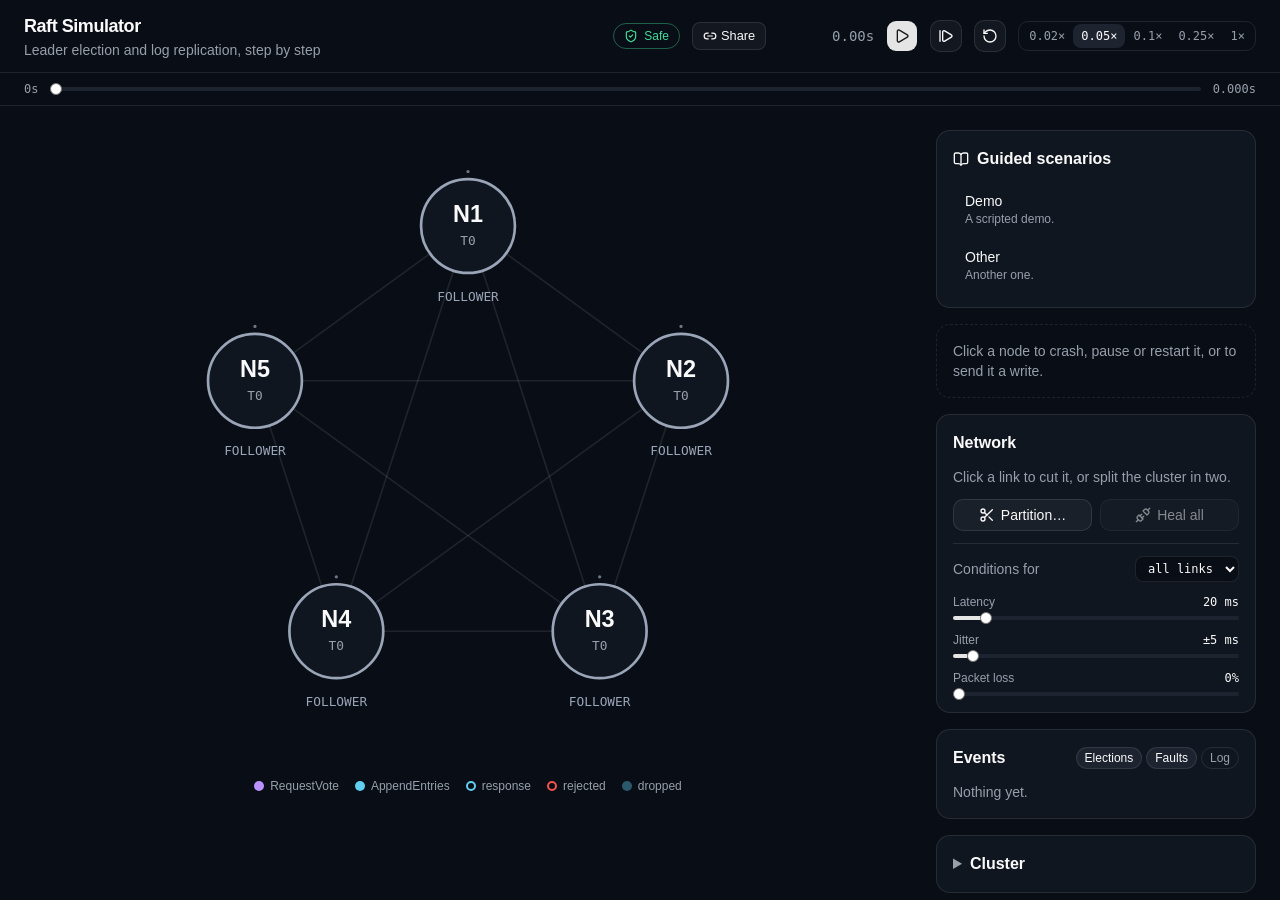
it: step buttons jump between narrated steps
The image size is (1280, 900).
Click the button "Demo A scripted demo.": click(984, 201) top-left (953, 183), bottom-right (1239, 235)
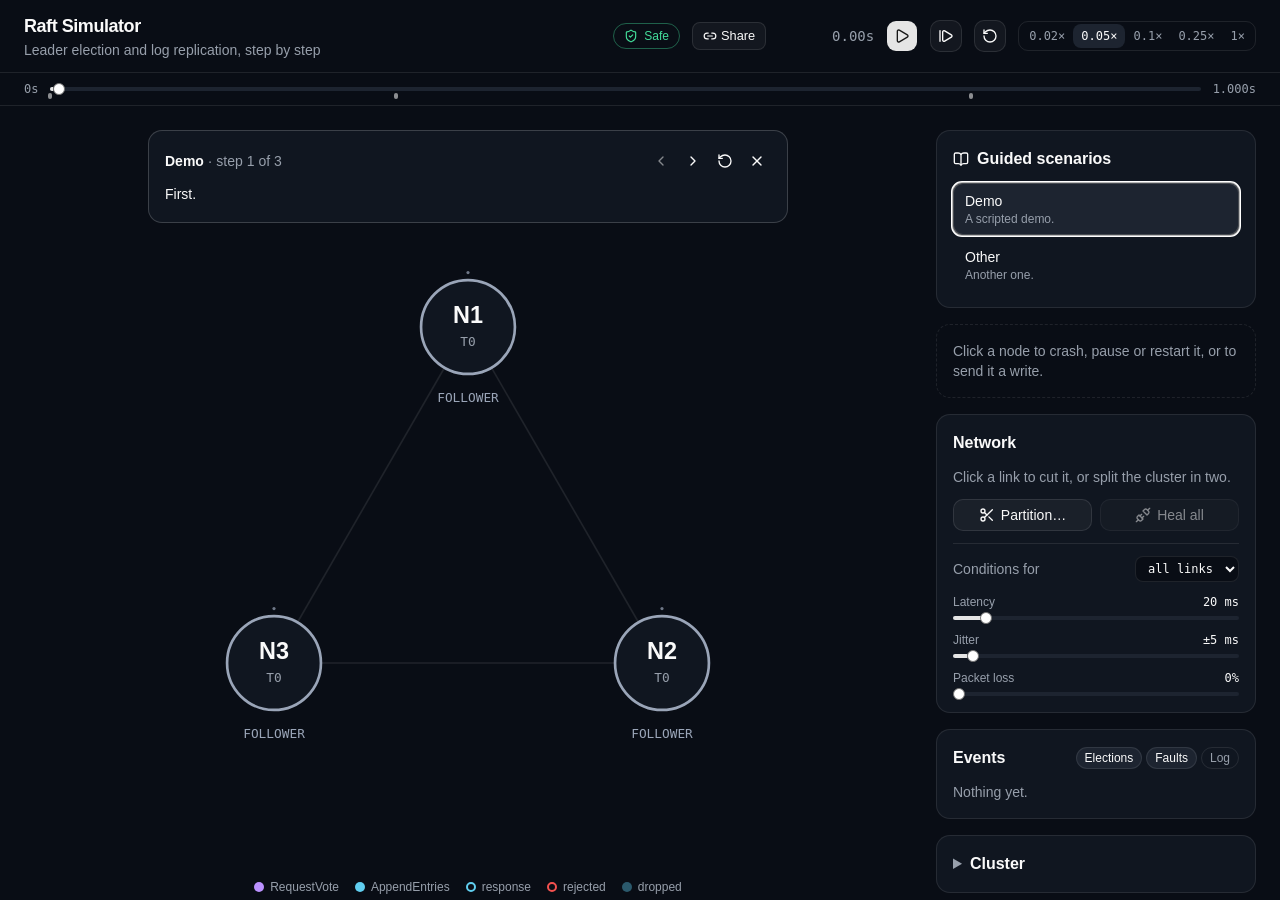
expect the button named "Previous step" is disabled: met, box top-left (647, 147), bottom-right (675, 175)
Click the button named "Next step": click(693, 161) top-left (679, 147), bottom-right (707, 175)
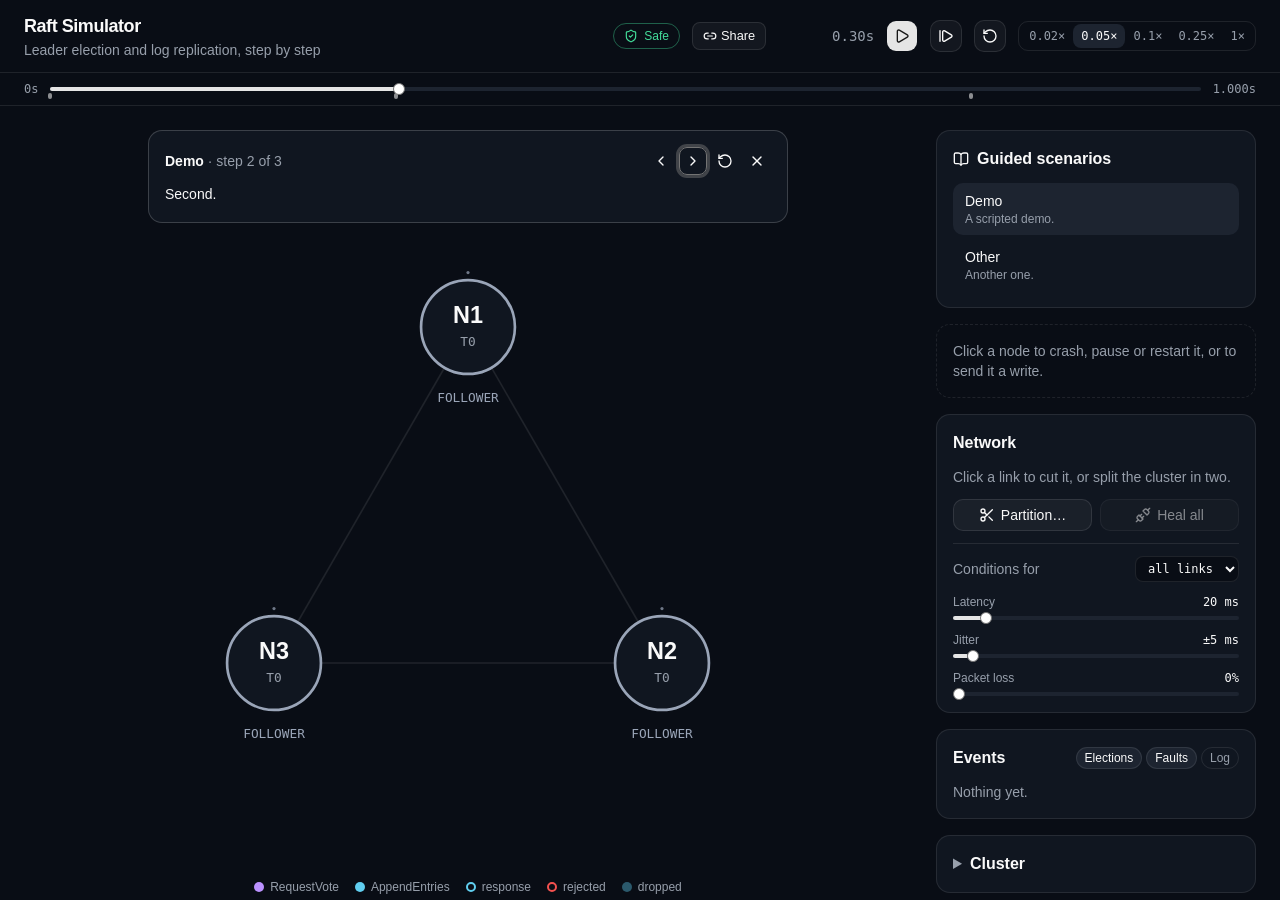
expect the text "Second." is shown: met, box top-left (165, 186), bottom-right (216, 202)
Click the button named "Next step": click(693, 161) top-left (679, 147), bottom-right (707, 175)
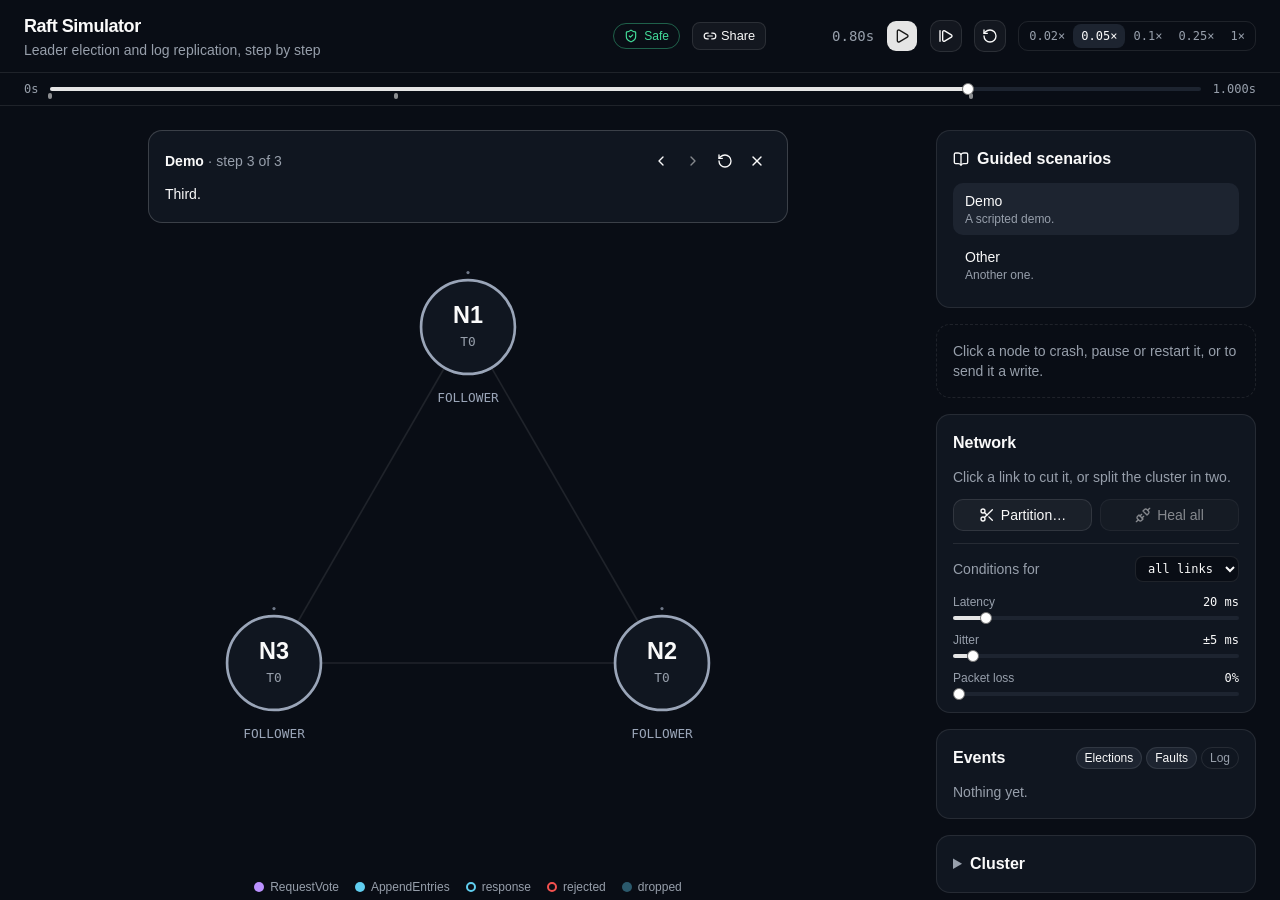
expect the button named "Next step" is disabled: met, box top-left (679, 147), bottom-right (707, 175)
Click the button named "Previous step": click(661, 161) top-left (647, 147), bottom-right (675, 175)
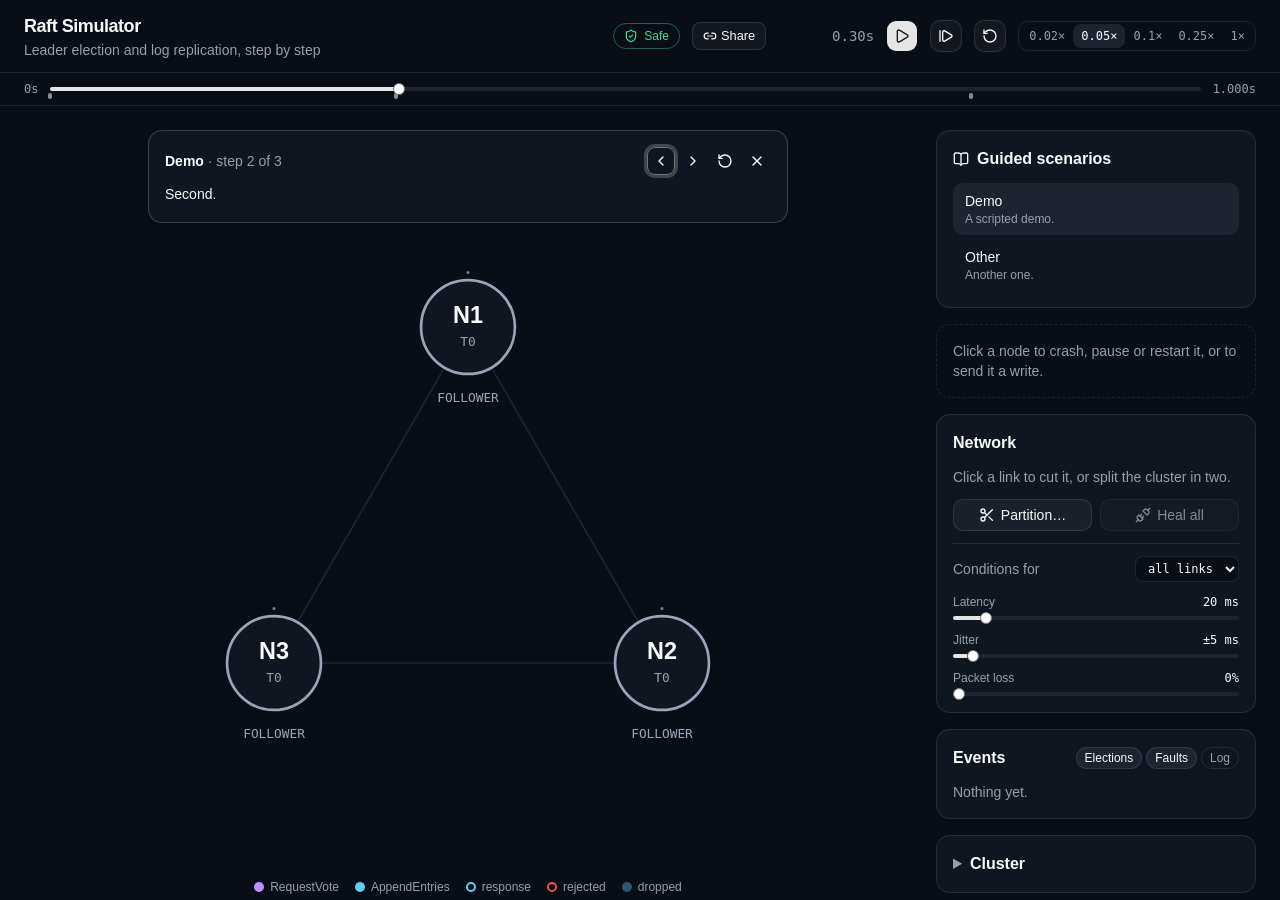
expect the text "Second." is shown: met, box top-left (165, 186), bottom-right (216, 202)
